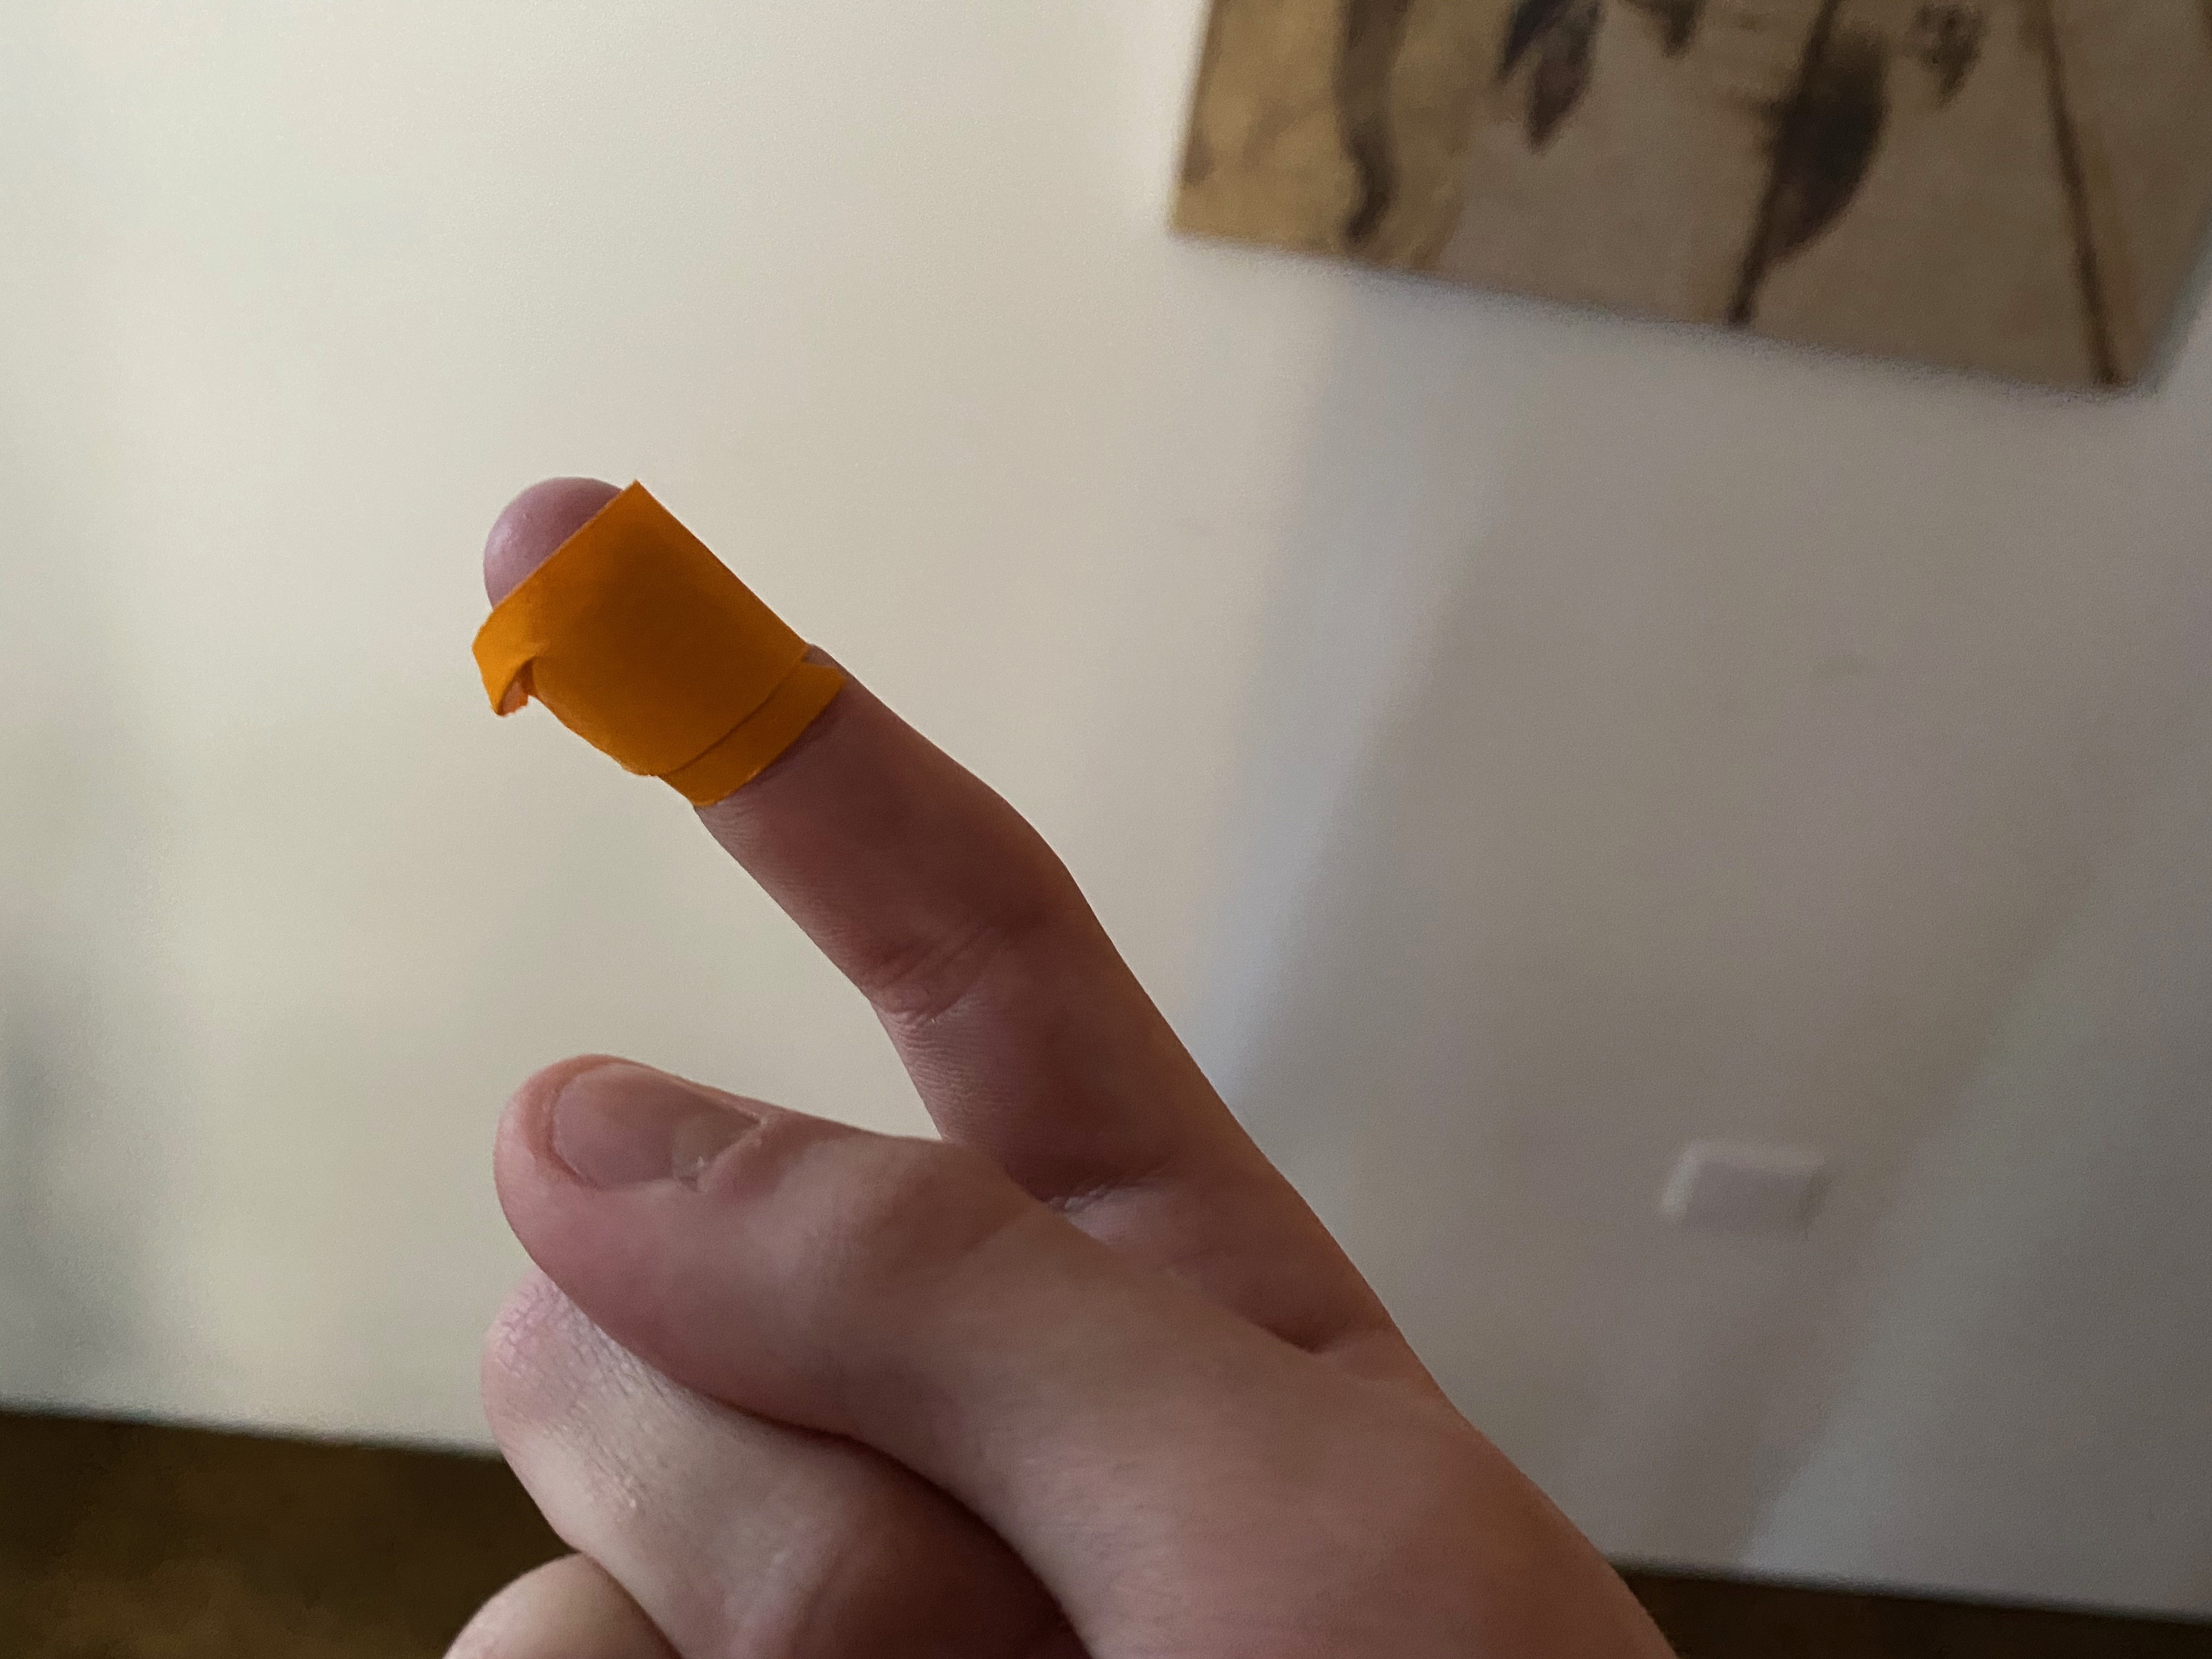fingertip: (458, 488, 782, 777)
